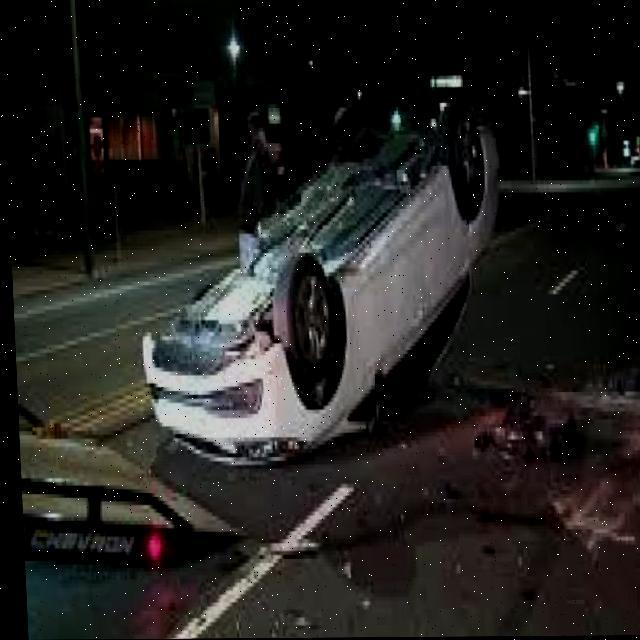single accident: (103, 53, 527, 498)
